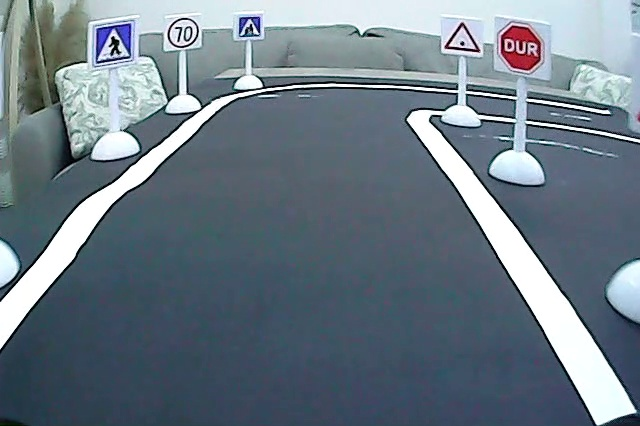green light: (442, 18, 483, 54)
pedestrian crossing: (94, 20, 134, 65)
school crossing: (236, 13, 263, 42)
speed limit 70: (167, 17, 200, 51)
stop sign: (495, 18, 546, 76)
